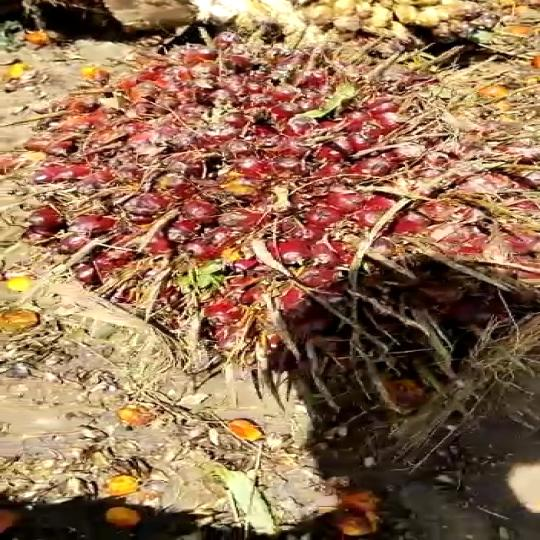masak: (8, 19, 530, 368)
